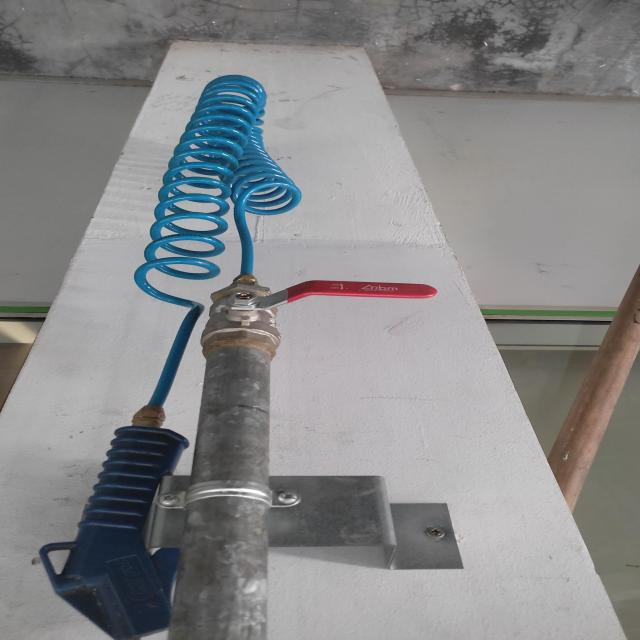closed_valve: (201, 279, 440, 339)
